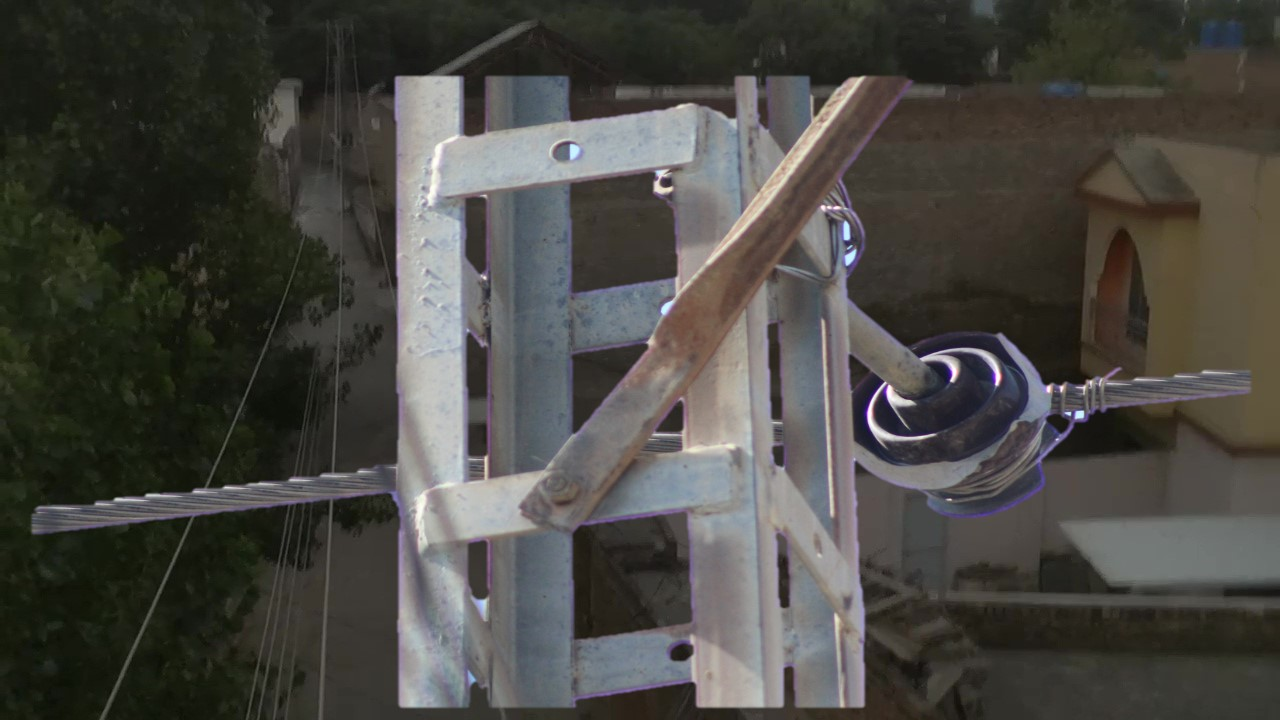defect_pin: (851, 313, 1066, 538)
